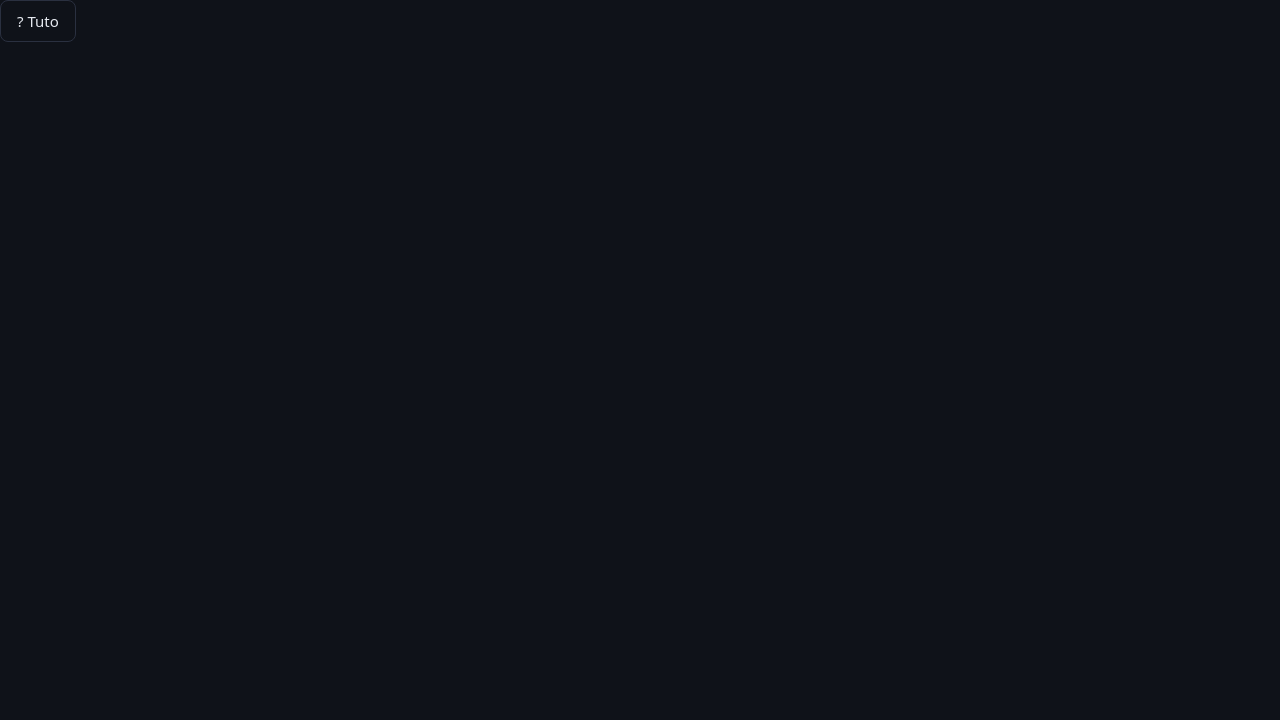
Test: Tuto › explique chaque valeur d'une carte et se referme
Later steps or results of the test are not shown.
Click the button "? Tuto".
click(38, 21)  # box 0,0 -> 76,42
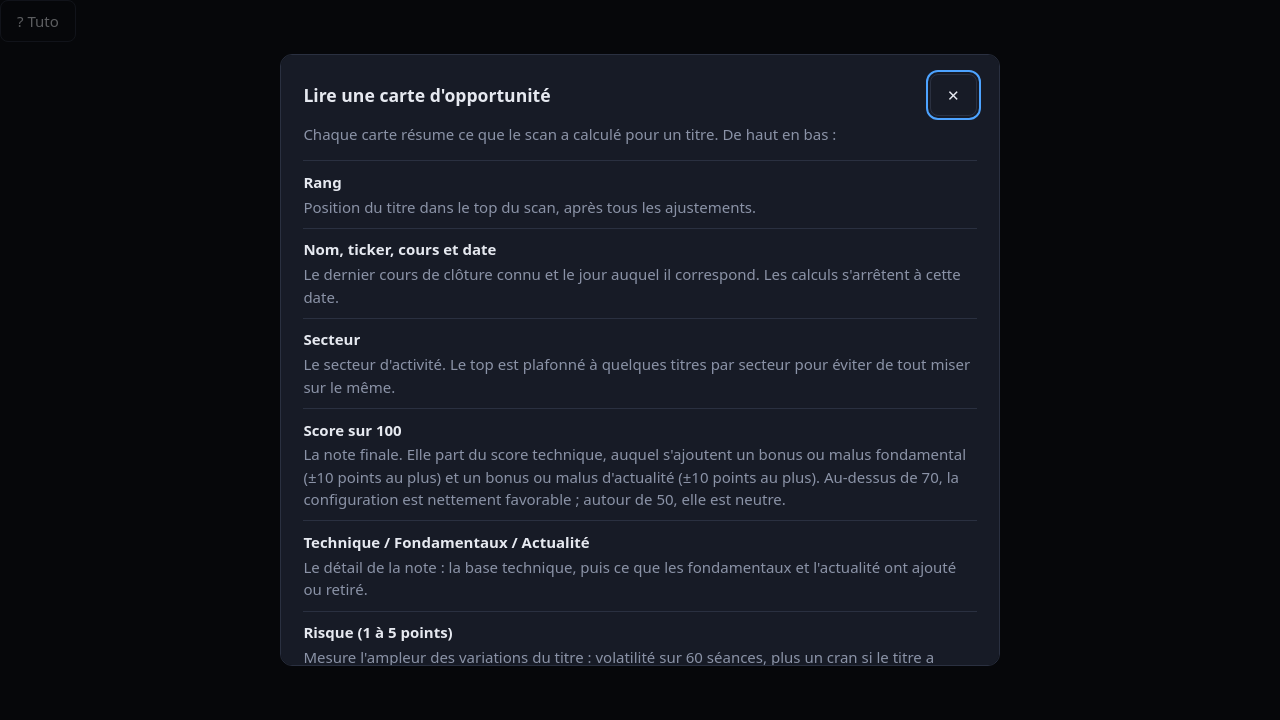
Now the text "Risque (1 à 5 points)" is shown, box 303,622 -> 453,642
